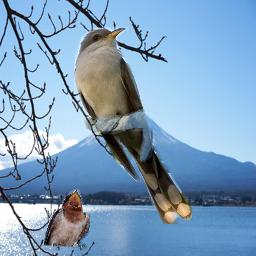Cuckoo: (74, 27, 192, 224)
Swallow: (44, 189, 90, 251)
